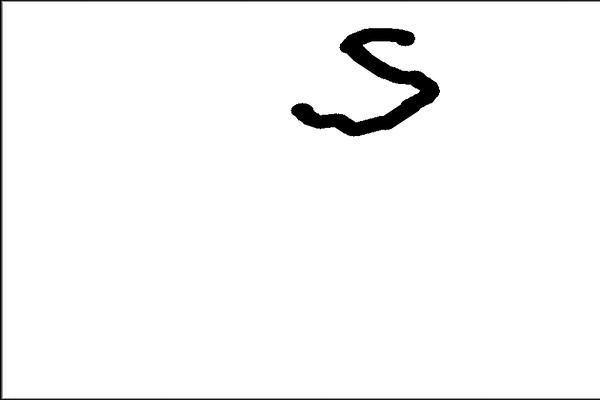S: (285, 22, 443, 138)
